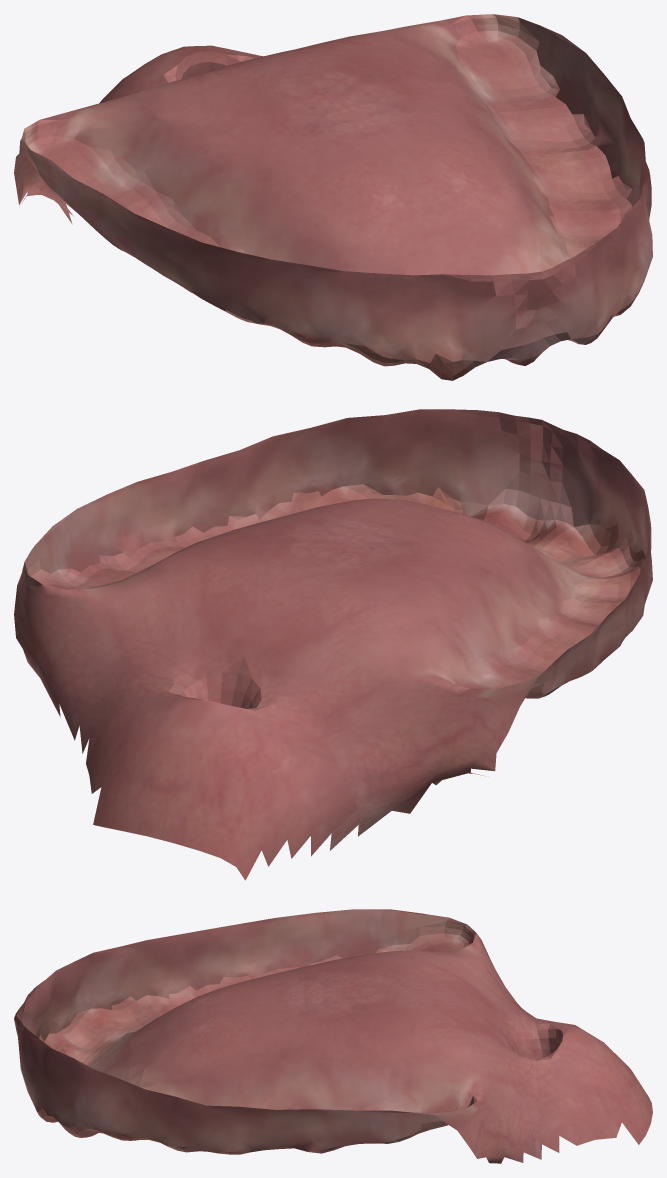
File: Gums Top 2.obj
The picture shows the model from 3 angles, top to bottom: view 1: azimuth 30°, elevation 25°; view 2: azimuth 150°, elevation 25°; view 3: azimuth 270°, elevation 25°; orthographic projection. The views are drawn at different scales.
Visible parts, largest first — view 1: Gums Top 2; view 2: Gums Top 2; view 3: Gums Top 2.
Part boxes in pixels (x1,y1,x2,y2): Gums Top 2: [14, 14, 652, 380]; Gums Top 2: [14, 409, 652, 880]; Gums Top 2: [14, 909, 652, 1163].
Bounding box in the file's own units: 0.0875 × 0.0298 × 0.1174.
Materials: 1 (1 with a texture image).
